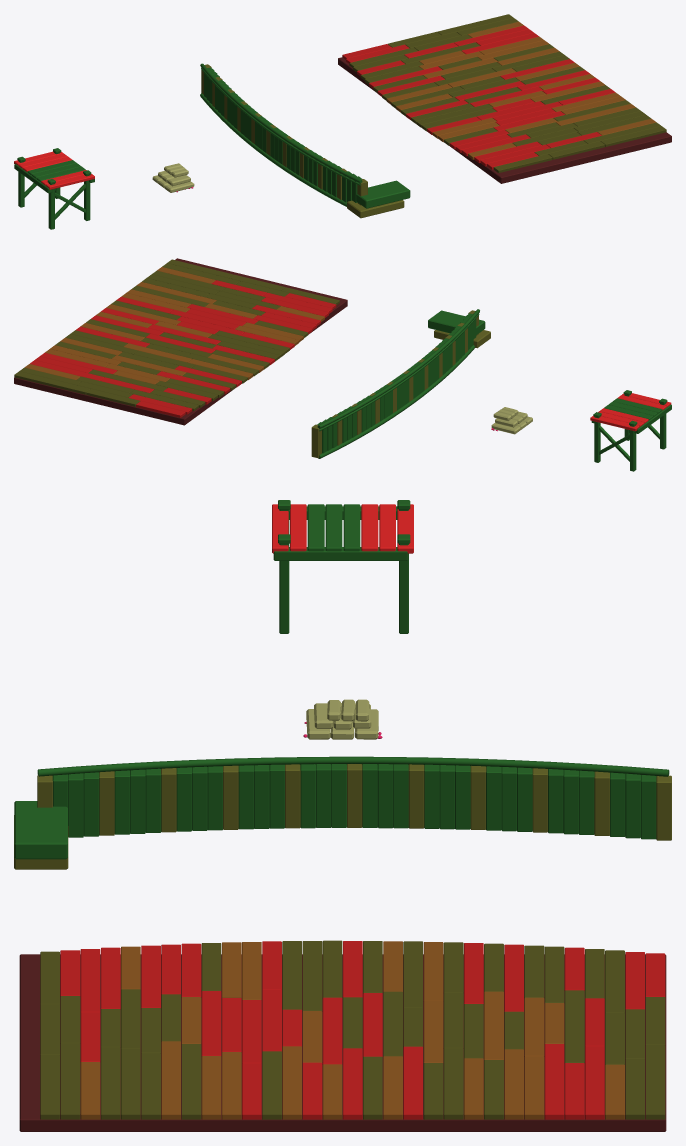
Rendered from 04_Stage_low.fbx.
3 renders of one model, top to bottom at view 1: azimuth 30°, elevation 25°; view 2: azimuth 150°, elevation 25°; view 3: azimuth 270°, elevation 25°, orthographic. The views are drawn at different scales.
Parts seen in each view (by area): view 1: StageDeck_low, StageApron_low, BackstageScaffold_low, PracticalRostrum_low; view 2: StageDeck_low, StageApron_low, BackstageScaffold_low, PracticalRostrum_low; view 3: StageDeck_low, StageApron_low, BackstageScaffold_low, PracticalRostrum_low.
Part boxes in pixels (bbox=[...]): StageDeck_low: bbox=[338, 14, 671, 183]; StageApron_low: bbox=[200, 63, 410, 218]; BackstageScaffold_low: bbox=[14, 148, 94, 229]; PracticalRostrum_low: bbox=[152, 163, 194, 192]; StageDeck_low: bbox=[14, 258, 347, 425]; StageApron_low: bbox=[311, 309, 490, 458]; BackstageScaffold_low: bbox=[590, 390, 671, 471]; PracticalRostrum_low: bbox=[491, 407, 532, 434]; StageDeck_low: bbox=[19, 940, 666, 1131]; StageApron_low: bbox=[14, 756, 671, 869]; BackstageScaffold_low: bbox=[272, 500, 413, 633]; PracticalRostrum_low: bbox=[303, 699, 382, 739].
Size of the model in its own units: 2289 by 1178 by 189.
